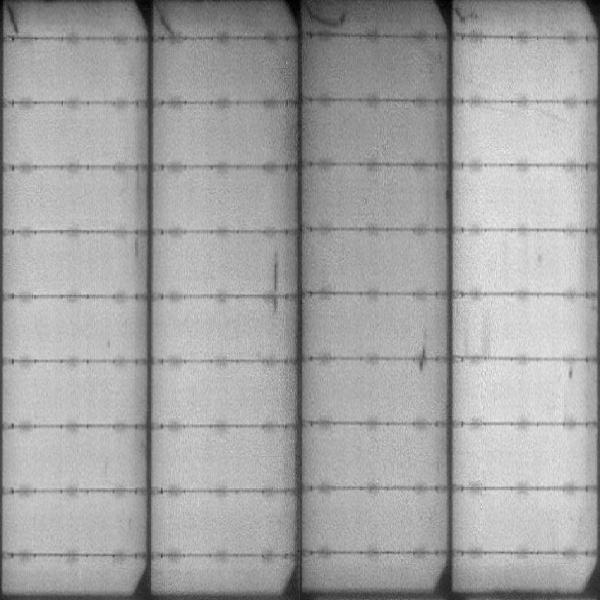scratch: (306, 9, 347, 27), (413, 329, 429, 375), (272, 255, 282, 312), (6, 2, 21, 35), (156, 12, 172, 38)
